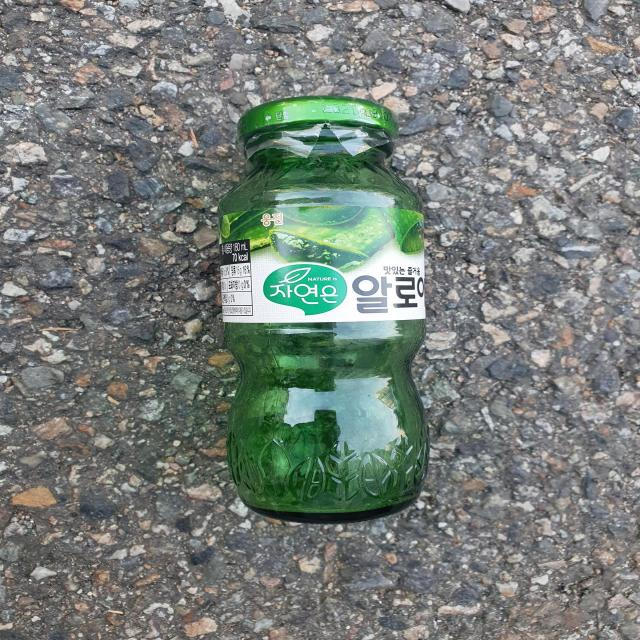glass: (220, 96, 429, 523)
